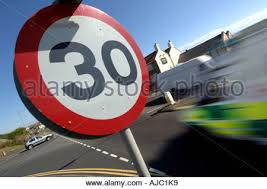Speed_limit_30km: (15, 3, 151, 137)
